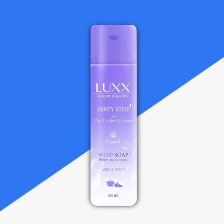cleaning_solution: (83, 18, 142, 210)
